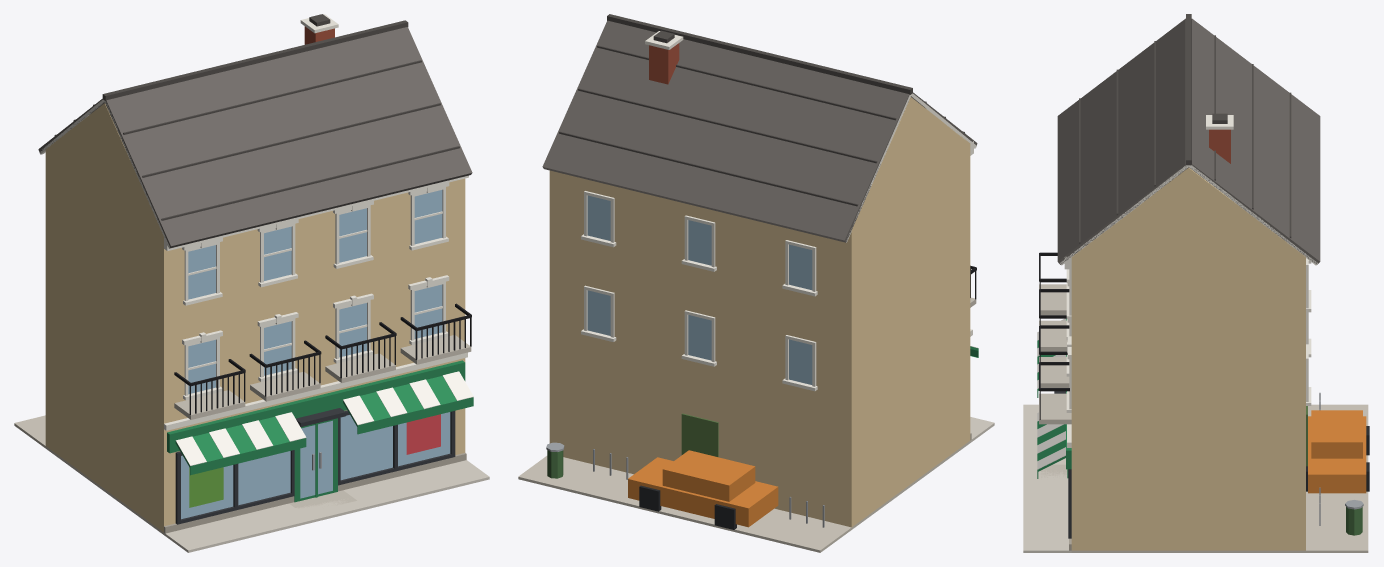
File: Blok_duz_3k_1_Hafif.fbx
3 views of the same model, side by side, from view 1: azimuth 30°, elevation 25°; view 2: azimuth 150°, elevation 25°; view 3: azimuth 270°, elevation 25° (orthographic).
Parts seen in each view (by area): view 1: Blok_duz_3k_1_Hafif; view 2: Blok_duz_3k_1_Hafif; view 3: Blok_duz_3k_1_Hafif.
Part boxes in pixels (x1,y1,x2,y2): Blok_duz_3k_1_Hafif: (14, 14, 489, 552); Blok_duz_3k_1_Hafif: (518, 14, 994, 552); Blok_duz_3k_1_Hafif: (1023, 14, 1369, 552).
Bounding box in the file's own units: 10.04 × 12.9 × 10.04.
